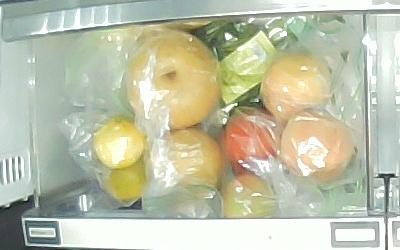peach_vinyl: (122, 29, 222, 130), (280, 112, 354, 181), (259, 55, 334, 121), (151, 129, 222, 186)
tangerine_vinyl: (92, 118, 146, 170), (102, 161, 149, 202)
tomato_vinyl: (222, 108, 284, 178), (223, 173, 276, 218)
